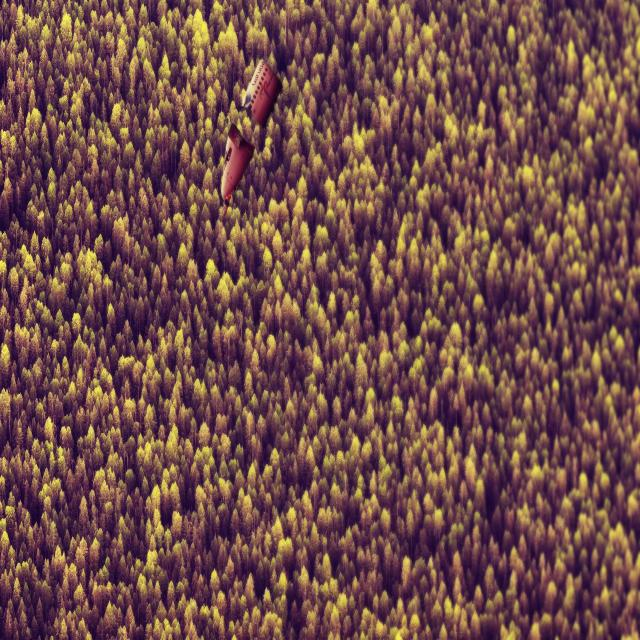airplane: (221, 59, 283, 199)
